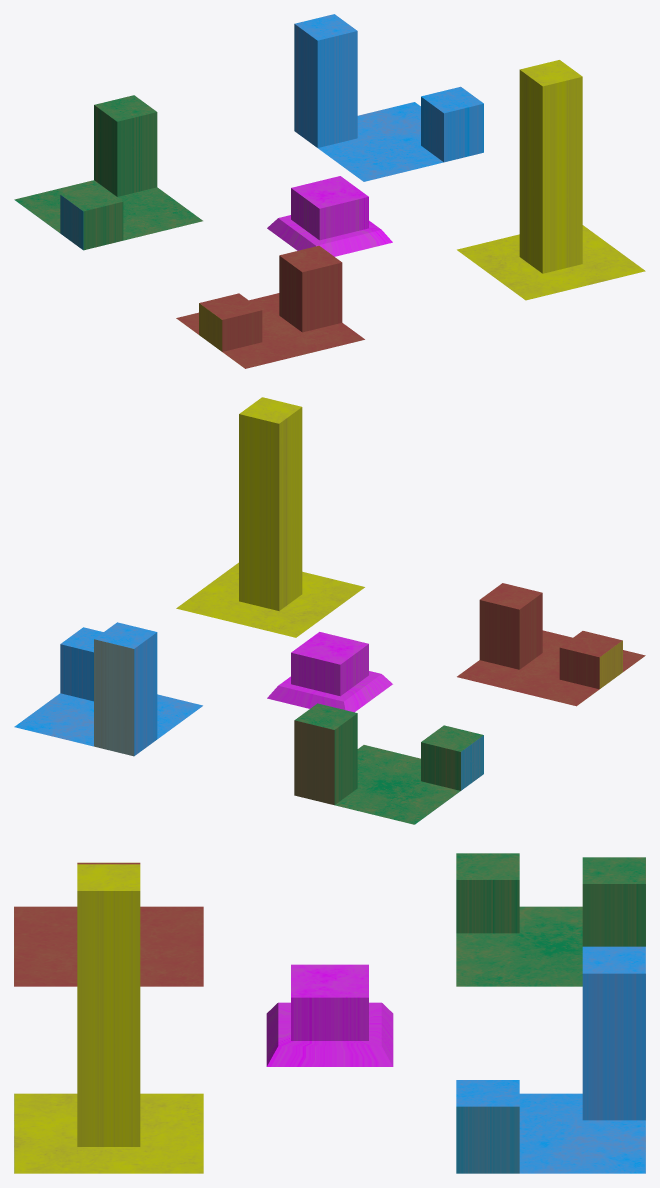
File: Mesh_all.glb
3 renders of one model, top to bottom at view 1: azimuth 30°, elevation 25°; view 2: azimuth 150°, elevation 25°; view 3: azimuth 270°, elevation 25°, orthographic. The views are drawn at different scales.
Parts seen in each view (by area): view 1: B2, B3, B5, B4, B1; view 2: B2, B5, B3, B4, B1; view 3: B2, B3, B5, B1, B4.
Part boxes in pixels (box(x1,y1,x2,y2)): B2: box(457, 60, 645, 300); B3: box(294, 14, 483, 181); B5: box(14, 95, 202, 250); B4: box(176, 245, 364, 368); B1: box(267, 176, 392, 256); B2: box(176, 397, 364, 637); B5: box(294, 703, 483, 824); B3: box(14, 622, 202, 756); B4: box(457, 583, 645, 706); B1: box(267, 632, 392, 712); B2: box(14, 864, 203, 1173); B3: box(456, 946, 645, 1173); B5: box(456, 853, 645, 986); B1: box(266, 964, 393, 1066); B4: box(14, 862, 203, 986).
Size of the model in its own units: 23.89 by 10.67 by 23.89.
Materials: 1 (1 with a texture image).
